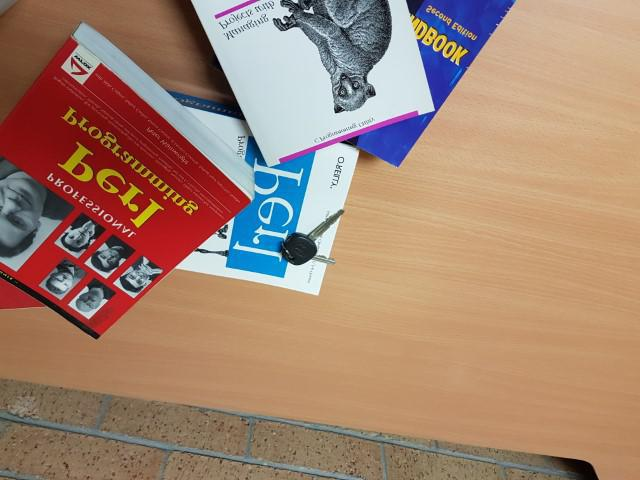key: (281, 209, 345, 266)
